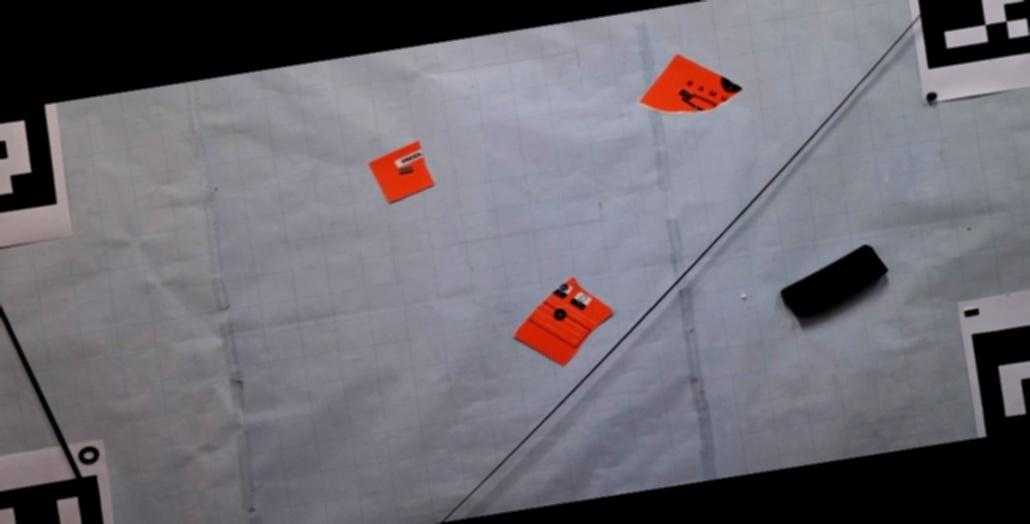obstacle: (513, 276, 616, 366), (779, 243, 890, 320), (639, 54, 743, 114), (368, 139, 436, 204)
